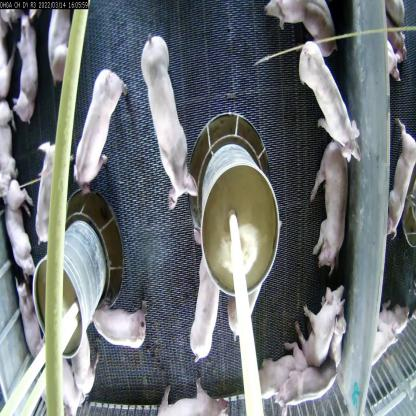Pig: (134, 26, 209, 209), (292, 34, 370, 170), (70, 66, 131, 198), (308, 133, 353, 296), (189, 214, 226, 382), (91, 289, 166, 366), (264, 0, 341, 62), (386, 107, 416, 258), (298, 277, 343, 373), (0, 182, 37, 294), (151, 369, 239, 415), (32, 132, 64, 258), (254, 334, 314, 396), (270, 367, 345, 415), (14, 280, 49, 379), (12, 11, 41, 128), (372, 290, 412, 373), (40, 7, 78, 94), (40, 342, 82, 416), (328, 310, 362, 392), (70, 330, 104, 405), (225, 286, 261, 349), (0, 100, 19, 210)
